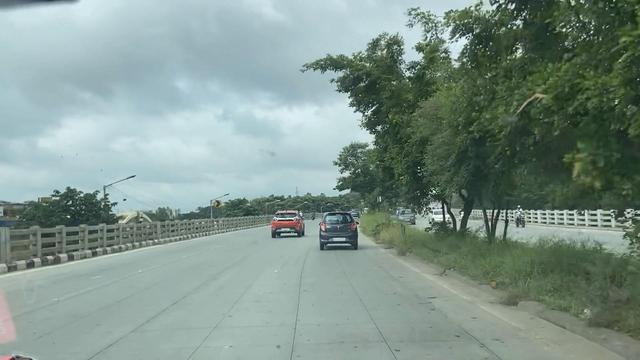LMV: (321, 212, 353, 242), (271, 209, 305, 235)
